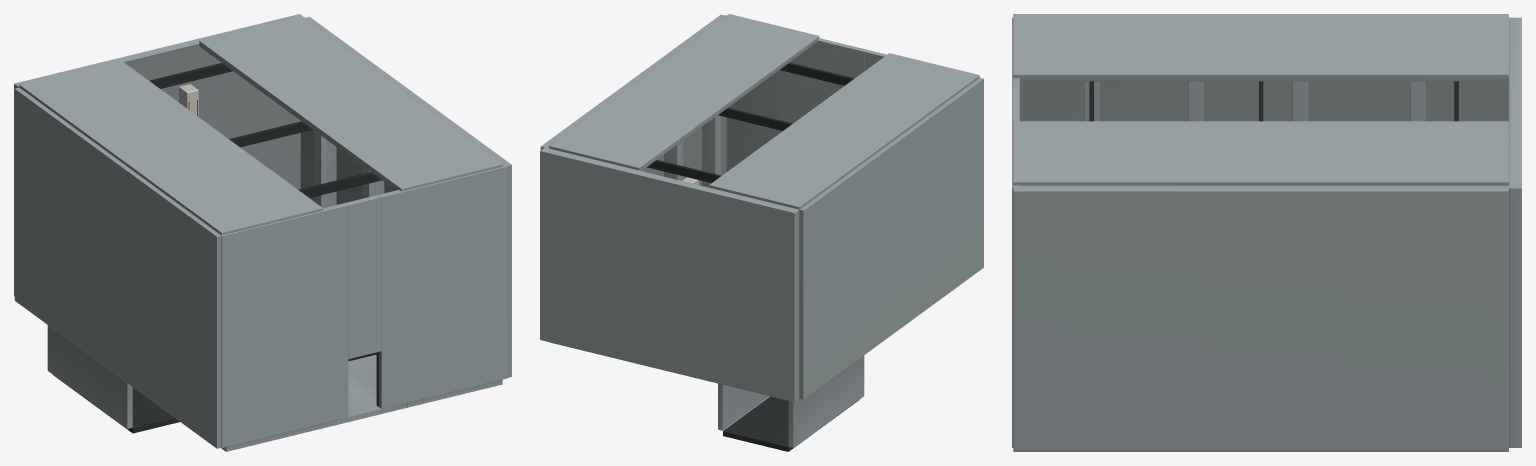
File: invert.glb
3 views of the same model, side by side, from view 1: azimuth 30°, elevation 25°; view 2: azimuth 150°, elevation 25°; view 3: azimuth 270°, elevation 25° (orthographic). The views are drawn at different scales.
Parts seen in each view (by area): view 1: I-shell--15.5, I-entrance-wall--8.65, I-entrance-wall-8.65, I-roof-9.5, I-roof--10, I-rear-wall, I-entry-crown, I-shell-15.5, I-void-shaft--13.3, I-void-bottom, I-shell-buttress-13.7--12, I-tessellated-floor-3-4 (+5 smaller); view 2: I-rear-wall, I-shell--15.5, I-roof-9.5, I-roof--10, I-entrance-wall-8.65, I-void-shaft--13.3, I-void-bottom, I-shell-15.5, I-void-shaft--4.7, I-shell-buttress-13.7-13, I-entry-crown, I-roof-rib-13 (+2 smaller); view 3: I-shell-15.5, I-roof--10, I-roof-9.5, I-shell--15.5, I-rear-wall, I-entrance-wall-8.65, I-shell-buttress--13.7--12, I-shell-buttress--13.7-5, I-shell-buttress--13.7--3, I-shell-buttress--13.7-13.
Part boxes in pixels (bbox=[...]): I-shell--15.5: bbox=[14, 87, 221, 448]; I-entrance-wall--8.65: bbox=[221, 203, 348, 447]; I-entrance-wall-8.65: bbox=[378, 166, 507, 408]; I-roof-9.5: bbox=[199, 16, 502, 191]; I-roof--10: bbox=[19, 60, 322, 235]; I-rear-wall: bbox=[14, 14, 304, 295]; I-entry-crown: bbox=[346, 195, 381, 359]; I-shell-15.5: bbox=[300, 16, 511, 377]; I-void-shaft--13.3: bbox=[47, 325, 132, 428]; I-void-bottom: bbox=[53, 375, 179, 433]; I-shell-buttress-13.7--12: bbox=[315, 131, 336, 208]; I-tessellated-floor-3-4: bbox=[348, 361, 407, 414]; I-rear-wall: bbox=[540, 147, 799, 401]; I-shell--15.5: bbox=[799, 77, 983, 399]; I-roof-9.5: bbox=[549, 14, 819, 170]; I-roof--10: bbox=[709, 53, 979, 209]; I-entrance-wall-8.65: bbox=[725, 15, 837, 171]; I-void-shaft--13.3: bbox=[788, 355, 864, 447]; I-void-bottom: bbox=[723, 396, 858, 451]; I-shell-15.5: bbox=[540, 14, 726, 185]; I-void-shaft--4.7: bbox=[718, 383, 769, 430]; I-shell-buttress-13.7-13: bbox=[702, 115, 720, 187]; I-entry-crown: bbox=[835, 42, 866, 92]; I-roof-rib-13: bbox=[780, 62, 854, 85]; I-shell-15.5: bbox=[1013, 185, 1508, 450]; I-roof--10: bbox=[1013, 14, 1508, 81]; I-roof-9.5: bbox=[1013, 121, 1508, 185]; I-shell--15.5: bbox=[1020, 81, 1508, 121]; I-rear-wall: bbox=[1509, 17, 1521, 447]; I-entrance-wall-8.65: bbox=[1012, 113, 1019, 447]; I-shell-buttress--13.7--12: bbox=[1409, 81, 1425, 121]; I-shell-buttress--13.7-5: bbox=[1188, 81, 1203, 121]; I-shell-buttress--13.7--3: bbox=[1292, 81, 1307, 121]; I-shell-buttress--13.7-13: bbox=[1083, 81, 1099, 121].
Bounding box in the file's own units: 32 × 29.9 × 39.1.
5 materials, 4 textured.
